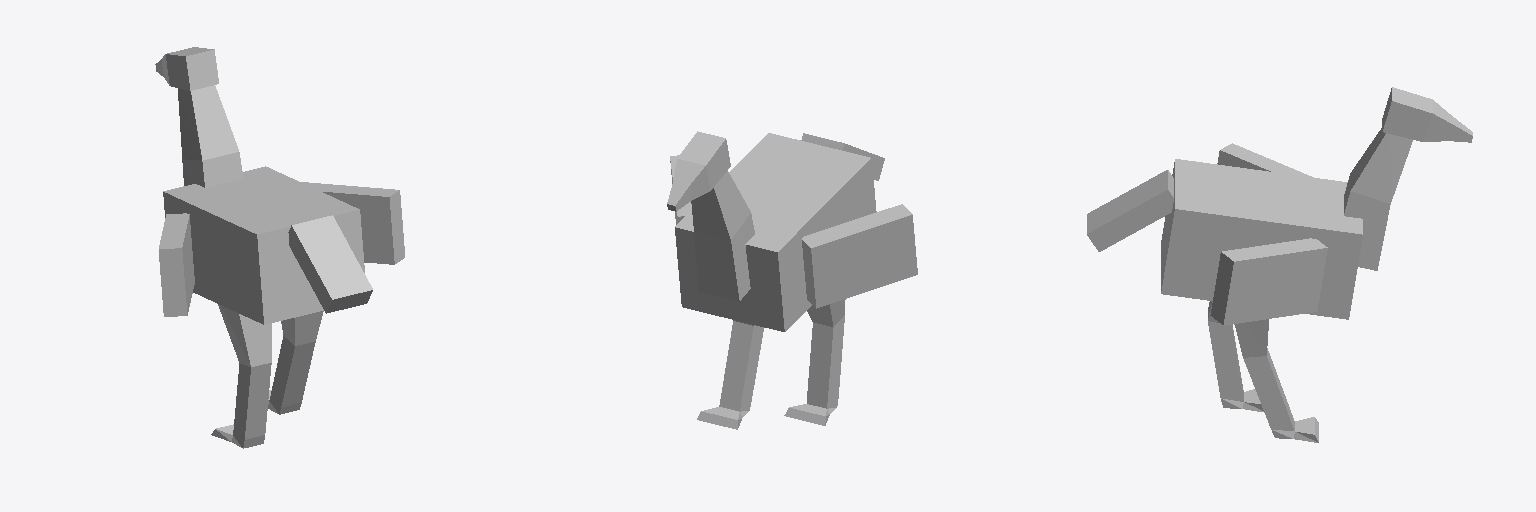
The model's file is Ostrich_000108.obj.
3 views of the same model, side by side, from view 1: azimuth 30°, elevation 25°; view 2: azimuth 150°, elevation 25°; view 3: azimuth 270°, elevation 25° (orthographic).
Visible parts, largest first — view 1: Cube_Cube.001; view 2: Cube_Cube.001; view 3: Cube_Cube.001.
Part boxes in pixels (x1,y1,x2,y2): Cube_Cube.001: (155,47,404,448); Cube_Cube.001: (667,131,917,429); Cube_Cube.001: (1087,87,1472,442).
Bounding box in the file's own units: 1.18 × 1.5 × 1.63.